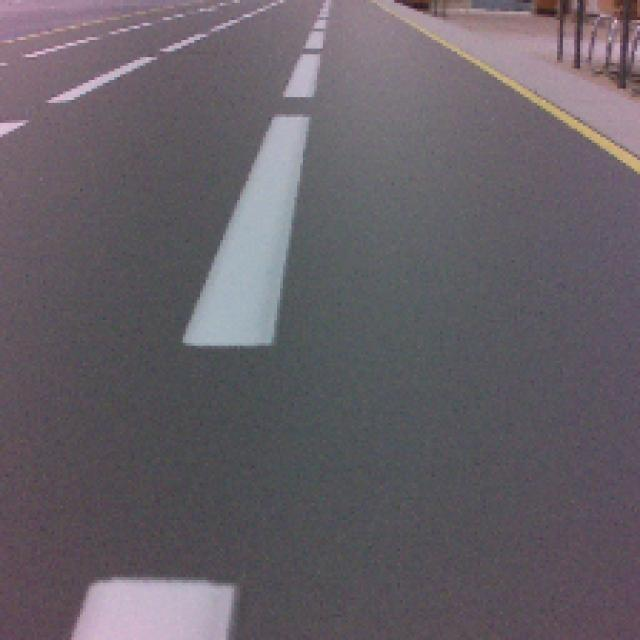Road: (229, 525, 639, 640)
